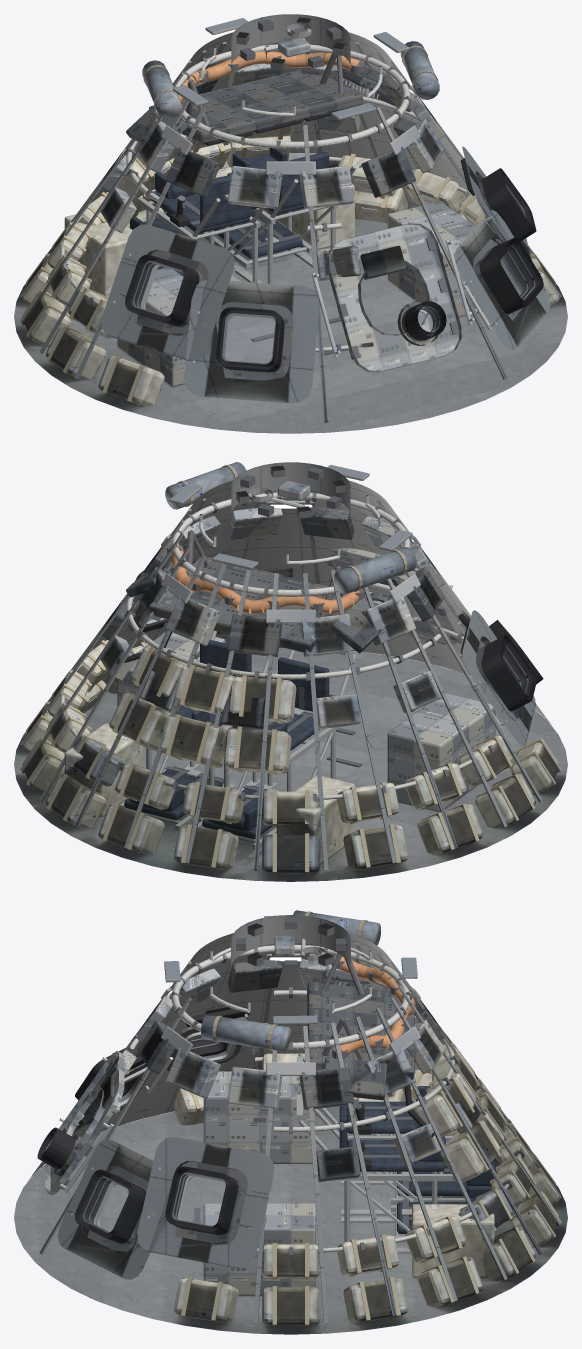
File: orion_cabin.glb
3 views of the same model, one above another, from view 1: azimuth 30°, elevation 25°; view 2: azimuth 150°, elevation 25°; view 3: azimuth 270°, elevation 25° (orthographic).
Visible parts, largest first — view 1: Cabin__cabin_fittings, Cabin__cabin_equip, Cabin__cabin_floorceil, Cabin__cabin_bags, Cabin__cabin_wall_q0, Cabin__cabin_wall_q3, Cabin__cabin_seats, Cabin__cabin_wall_q1, Cabin_glass__CabinWindowGlass, Cabin__cabin_wall_q2; view 2: Cabin__cabin_bags, Cabin__cabin_equip, Cabin__cabin_floorceil, Cabin__cabin_fittings, Cabin__cabin_seats, Cabin__cabin_wall_q0, Cabin__cabin_wall_q3, Cabin__cabin_wall_q2, Cabin__cabin_wall_q1; view 3: Cabin__cabin_equip, Cabin__cabin_bags, Cabin__cabin_floorceil, Cabin__cabin_fittings, Cabin__cabin_wall_q1, Cabin__cabin_seats, Cabin__cabin_wall_q3, Cabin__cabin_wall_q0, Cabin__cabin_wall_q2, Cabin_glass__CabinWindowGlass.
Boxes of the visible parts, x1,y1,x2,y2 form: Cabin__cabin_fittings: (58, 17, 543, 381); Cabin__cabin_equip: (85, 18, 482, 386); Cabin__cabin_floorceil: (14, 14, 567, 433); Cabin__cabin_bags: (20, 41, 561, 406); Cabin__cabin_wall_q0: (184, 106, 550, 422); Cabin__cabin_wall_q3: (21, 72, 234, 379); Cabin__cabin_seats: (130, 148, 356, 355); Cabin__cabin_wall_q1: (344, 32, 534, 259); Cabin_glass__CabinWindowGlass: (139, 254, 524, 362); Cabin__cabin_wall_q2: (47, 32, 350, 253); Cabin__cabin_bags: (20, 462, 561, 873); Cabin__cabin_equip: (85, 465, 495, 811); Cabin__cabin_floorceil: (14, 462, 567, 881); Cabin__cabin_fittings: (58, 465, 543, 801); Cabin__cabin_seats: (120, 630, 362, 849); Cabin__cabin_wall_q0: (222, 480, 553, 727); Cabin__cabin_wall_q3: (330, 548, 542, 863); Cabin__cabin_wall_q2: (39, 544, 328, 870); Cabin__cabin_wall_q1: (21, 480, 257, 773); Cabin__cabin_equip: (100, 915, 495, 1295); Cabin__cabin_bags: (174, 910, 561, 1326); Cabin__cabin_floorceil: (14, 915, 567, 1334); Cabin__cabin_fittings: (37, 918, 524, 1254); Cabin__cabin_wall_q1: (137, 1016, 457, 1323); Cabin__cabin_seats: (194, 1053, 497, 1253); Cabin__cabin_wall_q3: (100, 933, 431, 1132); Cabin__cabin_wall_q0: (29, 938, 218, 1279); Cabin__cabin_wall_q2: (363, 938, 559, 1280); Cabin_glass__CabinWindowGlass: (91, 1176, 224, 1231).
Bounding box in the file's own units: 4.44 × 2.52 × 4.44.
Materials: 12 (10 with a texture image).
